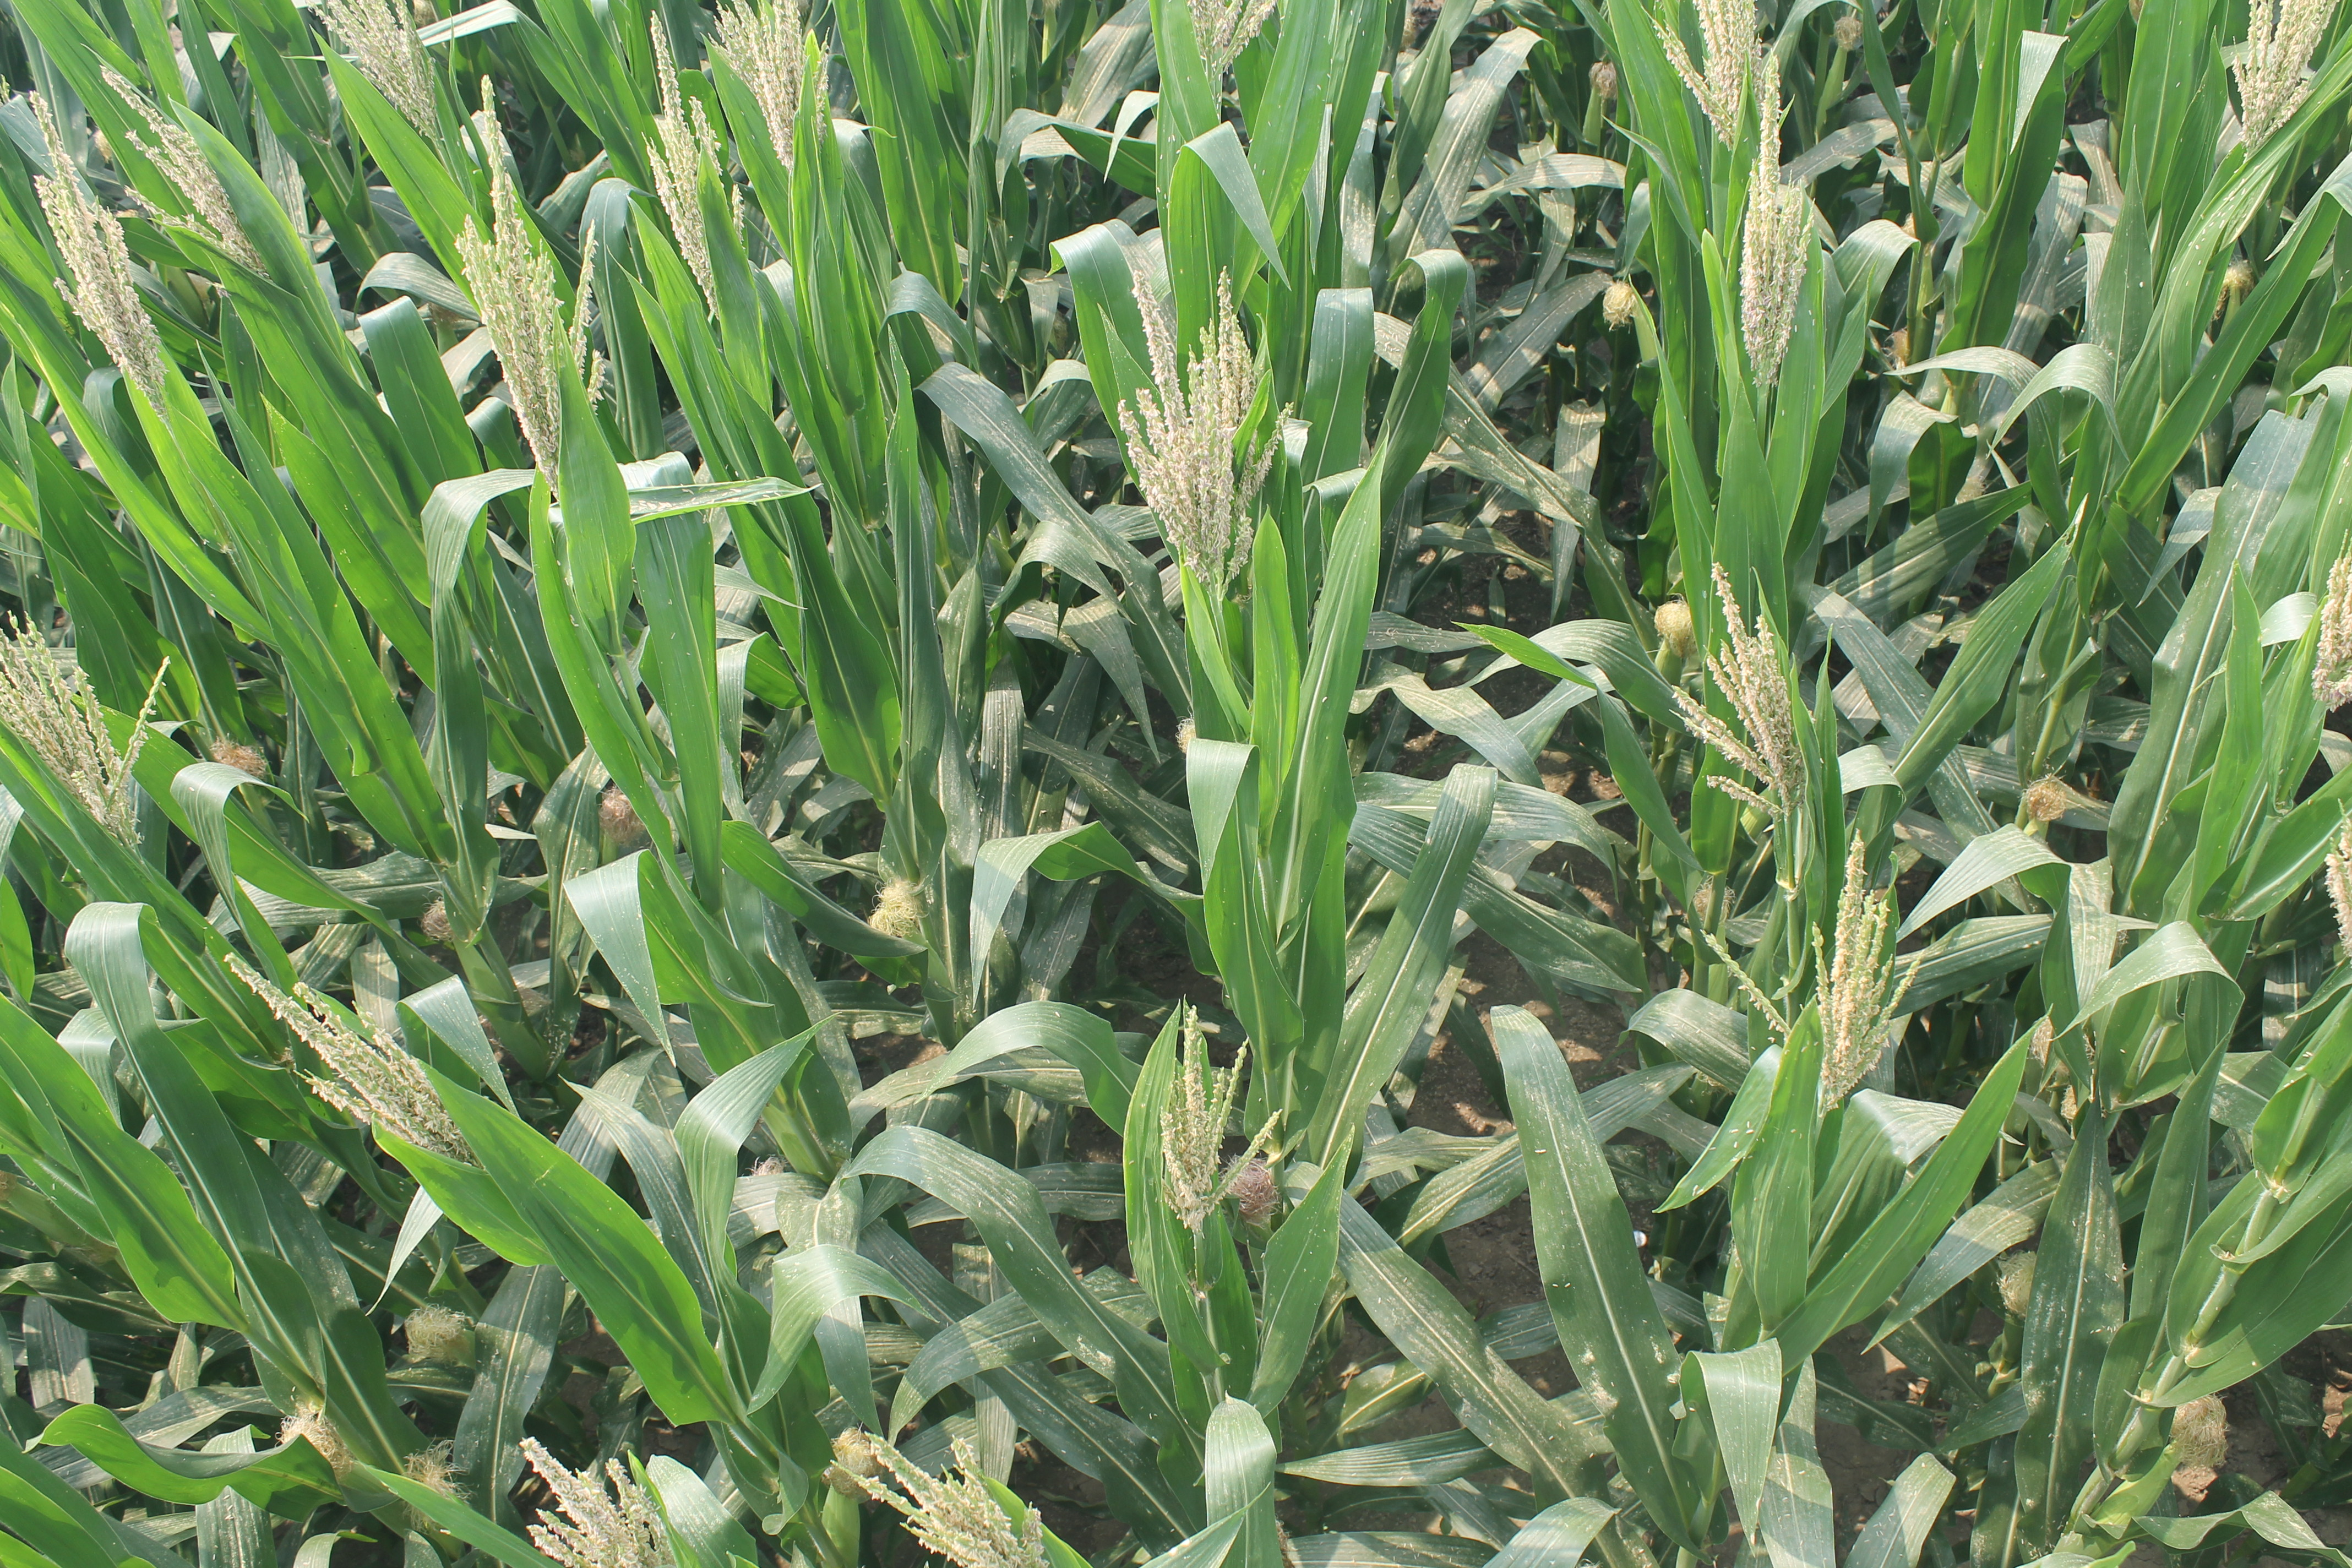Maize: (460, 93, 619, 483), (1724, 852, 1935, 1122), (1120, 264, 1283, 577), (0, 597, 199, 828), (241, 966, 472, 1162), (842, 1424, 1108, 1568), (1141, 1018, 1319, 1232), (24, 93, 140, 399), (1669, 593, 1808, 812), (159, 37, 287, 264), (635, 9, 723, 331), (1729, 152, 1851, 367), (497, 1440, 682, 1568), (2208, 9, 2352, 168), (318, 0, 441, 124), (747, 0, 842, 140), (1179, 0, 1304, 101), (1680, 0, 1752, 140), (2299, 558, 2352, 712), (2305, 819, 2352, 947)
